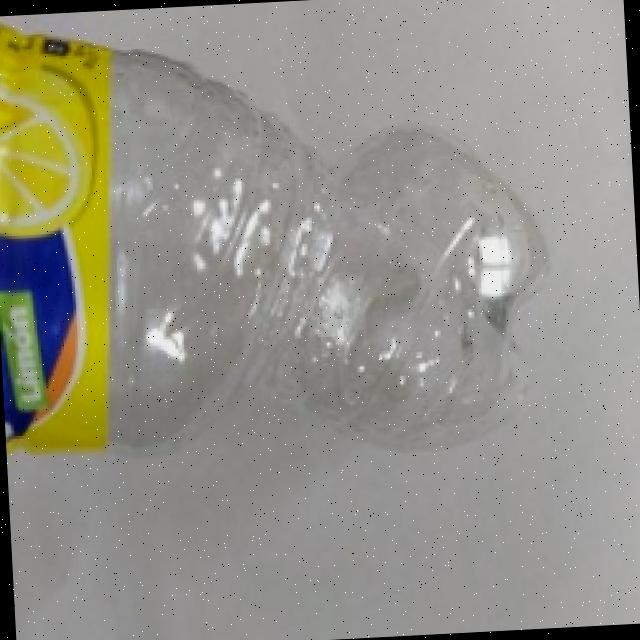bottle: (0, 0, 571, 455)
label: (0, 41, 136, 461)
